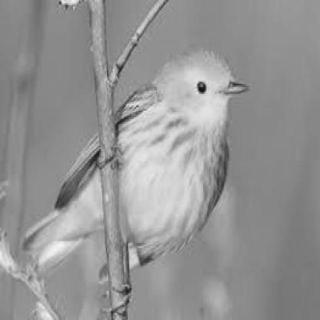other: (23, 29, 239, 275)
